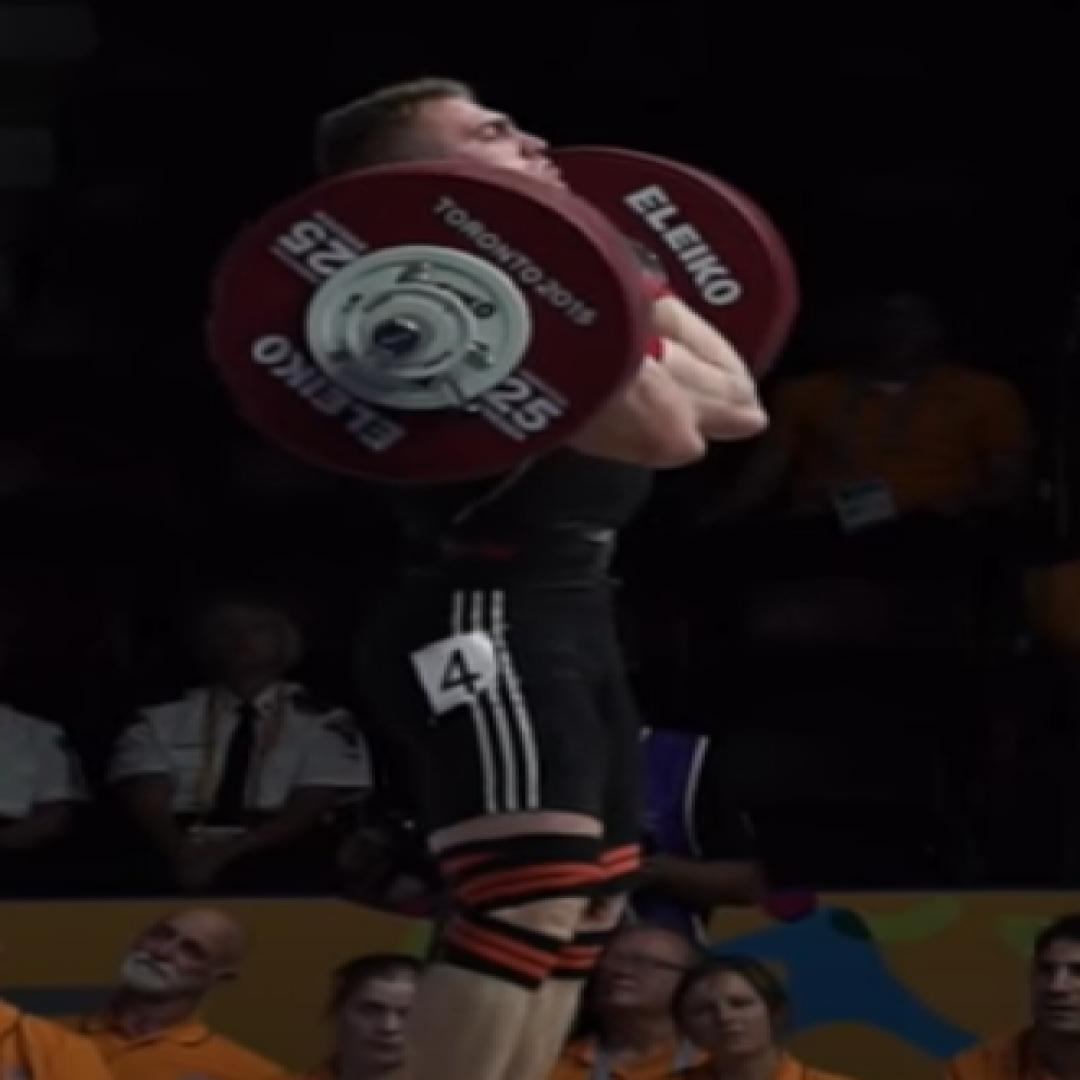Bar: (372, 319, 421, 355)
Barbell: (209, 168, 633, 482)
